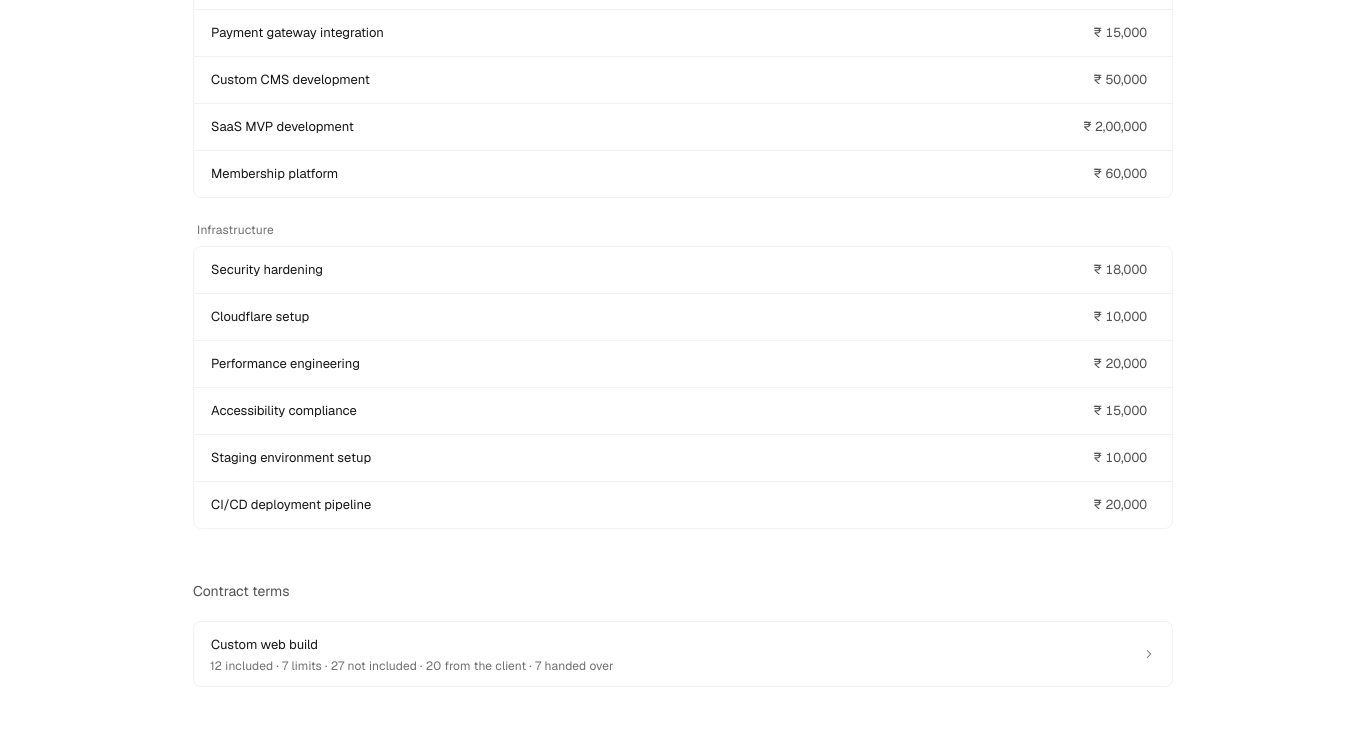
Test: a sold service › links to the terms it uses, and reads them in a sheet
(page scrolled)
Click the button "Custom web build" at (265, 644), box [210,634,1126,656]
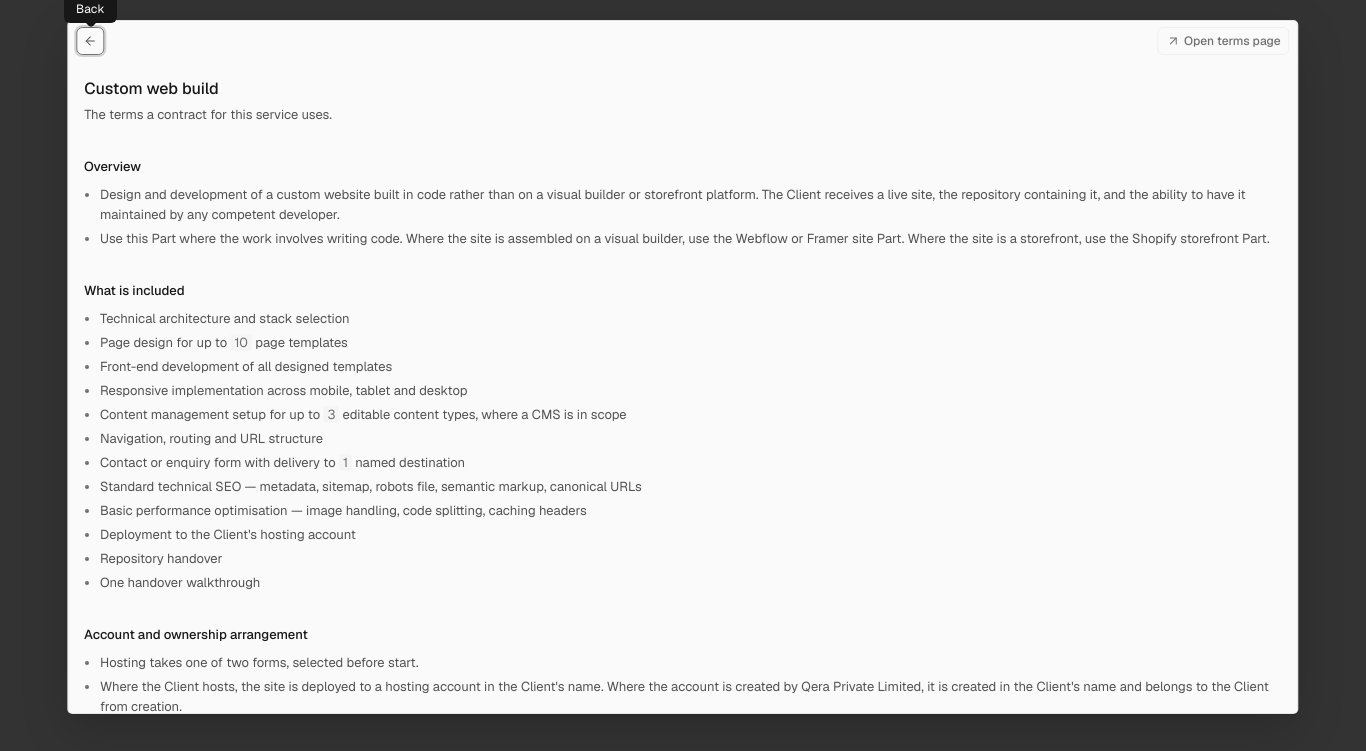
Check: the heading "What is included" is shown, box [84,282,185,299]
